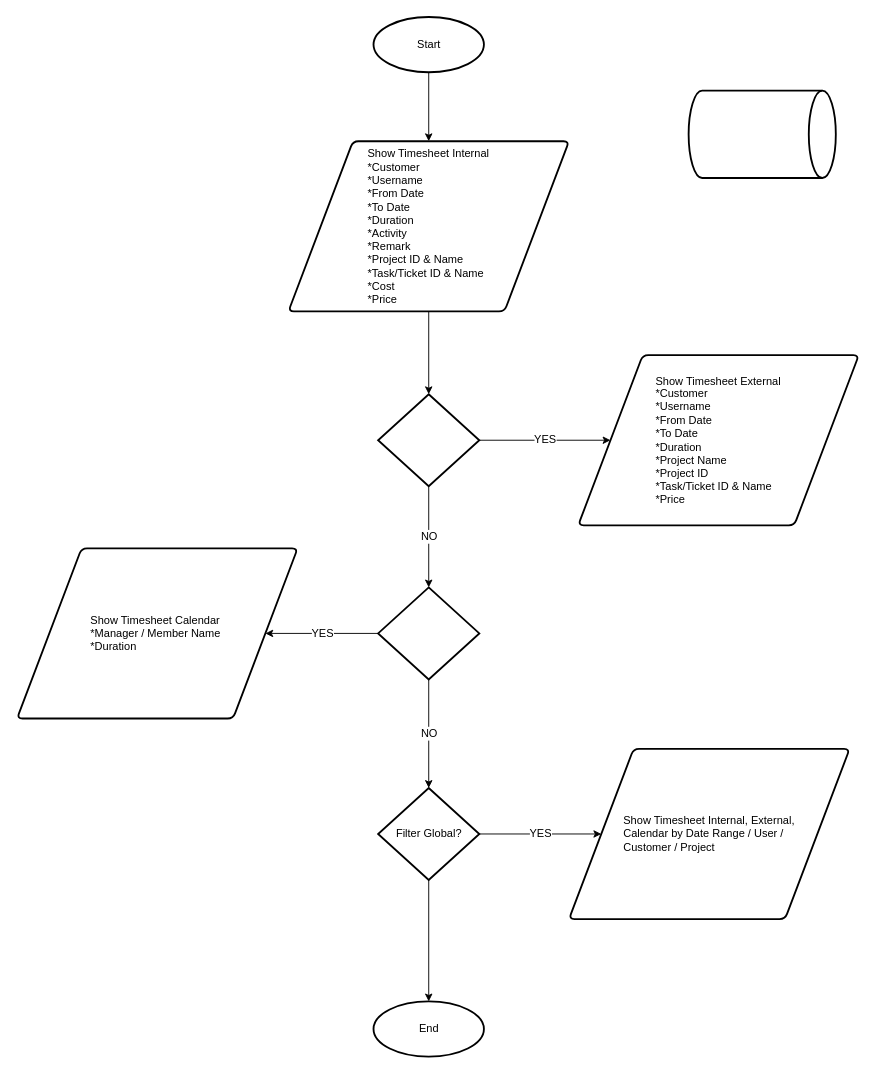
This 875x1073 diagram has some shape labels left out. Here are the shapes that lost their labels. From the top down, the box of each, then its label:
(687, 89, 836, 178): user crm_task crm_project crm_project_allication crm_task_group crm_team_member
(377, 393, 480, 487): Tab Internal?
(377, 586, 480, 680): Tab Calendar?
